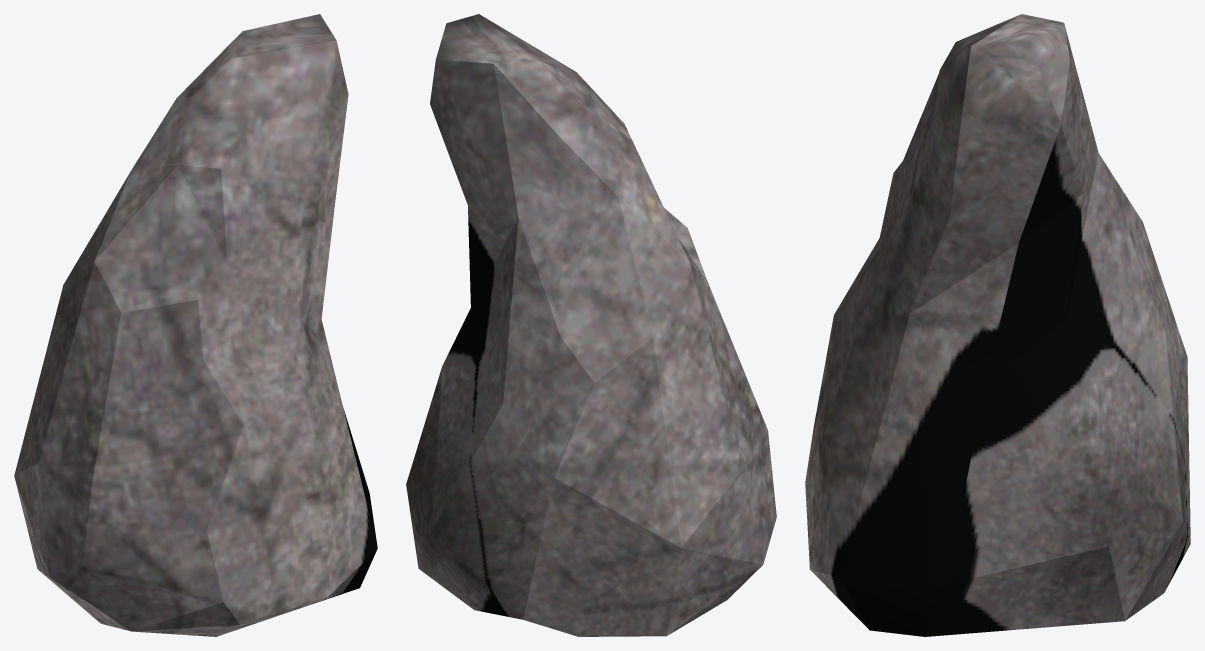
File: stonespire.fbx
3 views of the same model, side by side, from view 1: azimuth 30°, elevation 25°; view 2: azimuth 150°, elevation 25°; view 3: azimuth 270°, elevation 25° (orthographic). The views are drawn at different scales.
Parts seen in each view (by area): view 1: StoneSpire; view 2: StoneSpire; view 3: StoneSpire.
Part boxes in pixels (x1,y1,x2,y2): StoneSpire: (14,14,377,636); StoneSpire: (406,14,776,636); StoneSpire: (805,14,1190,636).
Bounding box in the file's own units: 190 × 318 × 178.
